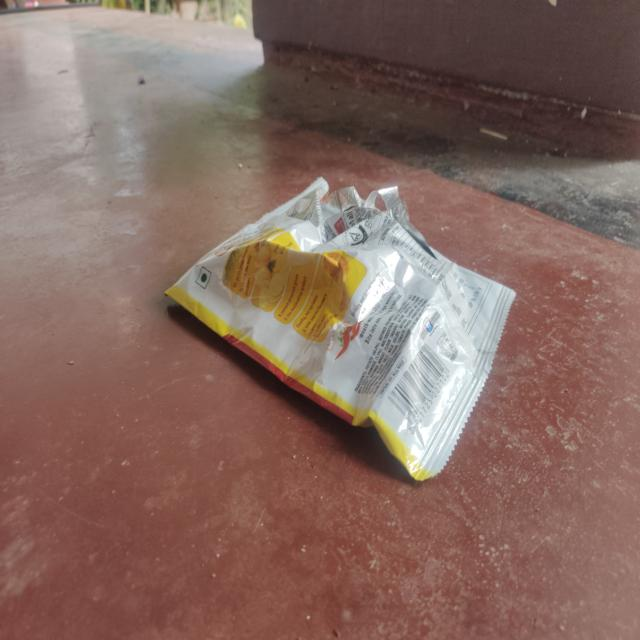plastic: (156, 171, 520, 486)
